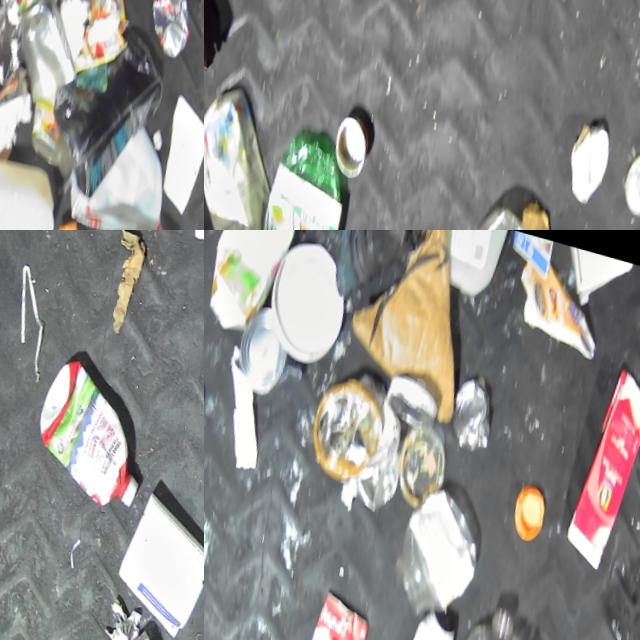can: (1, 0, 90, 106), (224, 293, 298, 401), (438, 360, 499, 453), (288, 579, 372, 640), (375, 365, 441, 431), (375, 589, 459, 640), (318, 104, 370, 181), (136, 0, 200, 55), (19, 89, 66, 162), (607, 139, 640, 213), (82, 615, 168, 640)
milk_jug: (54, 101, 179, 230), (399, 230, 514, 301), (0, 130, 62, 230)
non_white_jug: (15, 348, 156, 515), (204, 74, 288, 230)
plastic_bottle: (400, 585, 550, 640), (438, 188, 542, 230)
